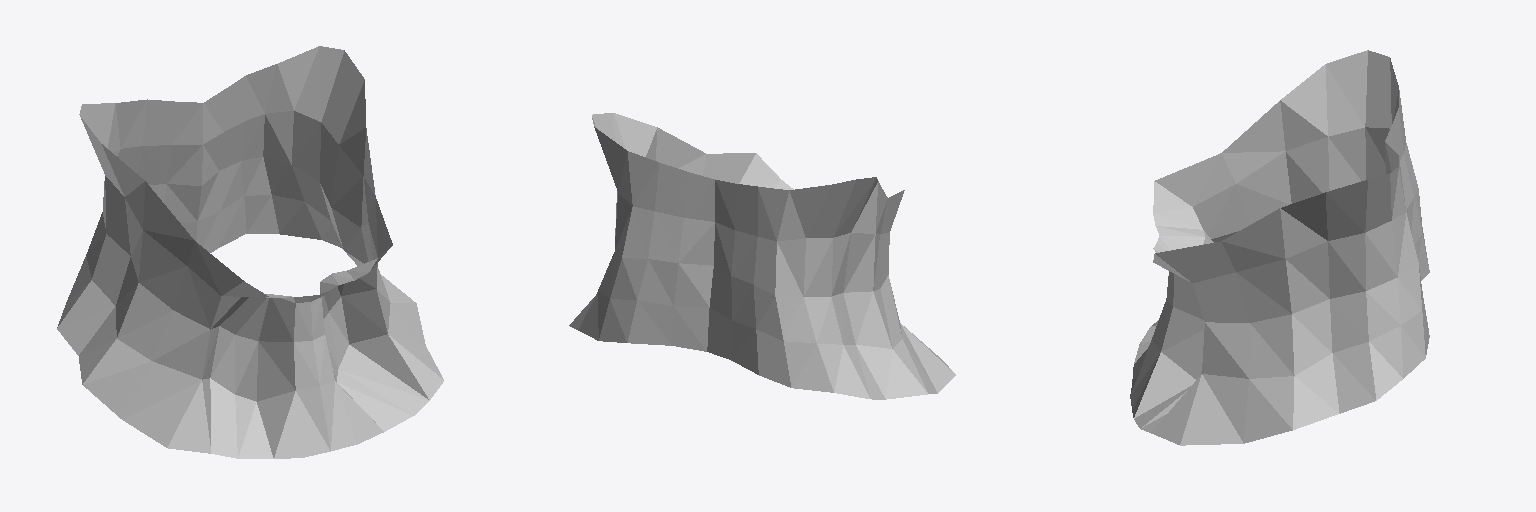
Rendered from Neck.obj.
The picture shows the model from 3 angles: view 1: azimuth 30°, elevation 25°; view 2: azimuth 150°, elevation 25°; view 3: azimuth 270°, elevation 25°; orthographic projection.
Parts seen in each view (by area): view 1: Neck_Cube.017; view 2: Neck_Cube.017; view 3: Neck_Cube.017.
Boxes of the visible parts, <box> form: Neck_Cube.017: <box>57,46,443,458</box>; Neck_Cube.017: <box>569,113,955,399</box>; Neck_Cube.017: <box>1130,50,1429,445</box>.
Size of the model in its own units: 3.85 by 3.11 by 2.99.